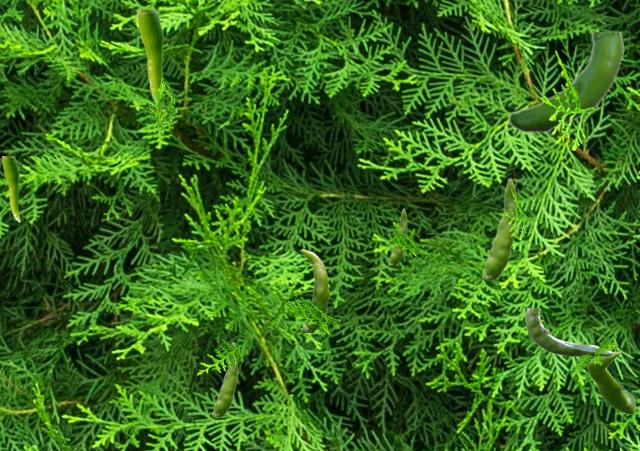green_chili: (507, 32, 622, 133), (525, 308, 612, 356), (482, 177, 516, 278), (587, 351, 634, 412), (300, 248, 329, 331), (137, 10, 164, 96), (212, 341, 237, 415), (2, 156, 19, 221), (388, 208, 406, 264)
